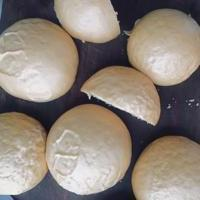biodegradable: (45, 102, 132, 196), (0, 16, 80, 103), (126, 7, 200, 86), (79, 65, 162, 127), (130, 134, 200, 200), (0, 111, 49, 196), (53, 0, 122, 44)
